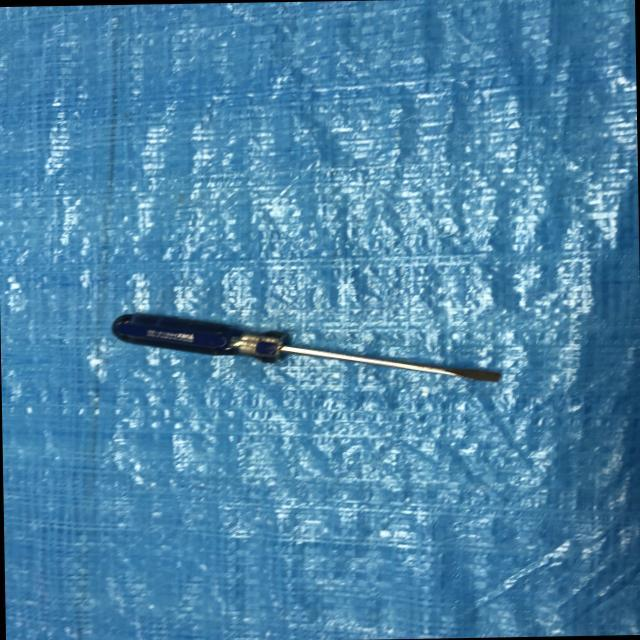screwdriver: (96, 291, 524, 424)
